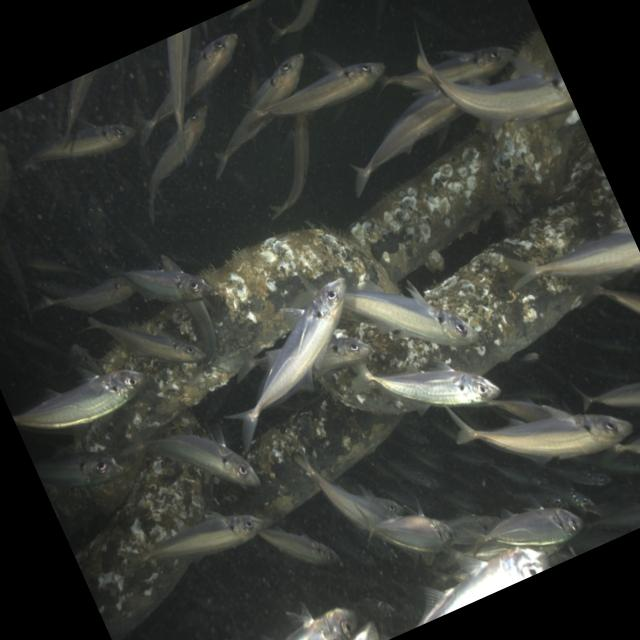ChainLink: (76, 228, 395, 455), (346, 169, 625, 374), (214, 392, 398, 524), (349, 133, 498, 282), (326, 375, 403, 413), (141, 304, 200, 346), (92, 474, 131, 508)
